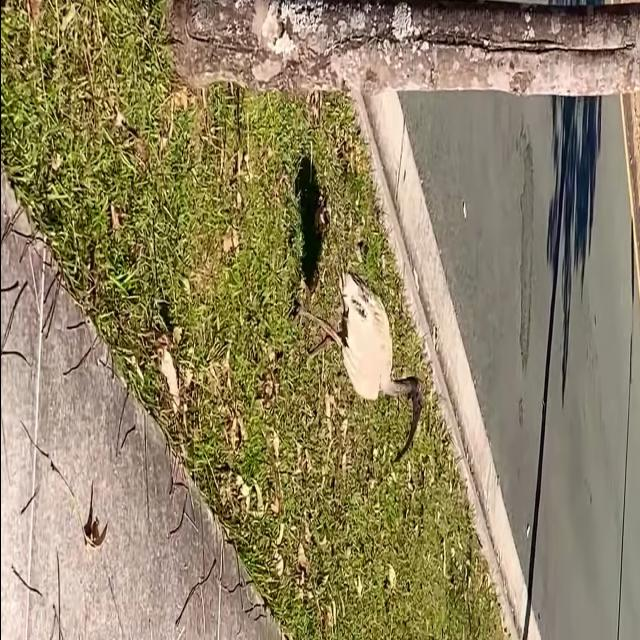Birds-Ibis: (296, 247, 428, 467)
